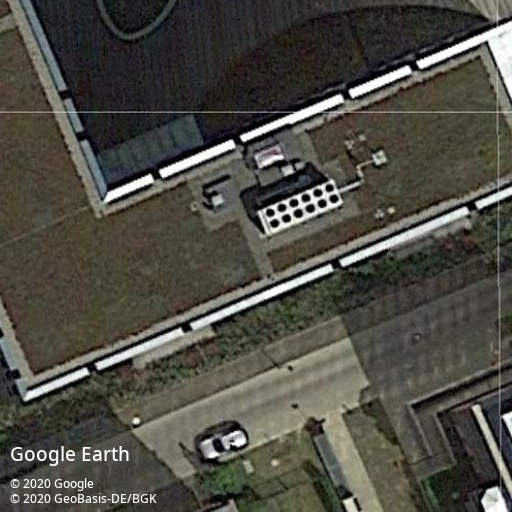Chiller: (256, 178, 344, 237)
